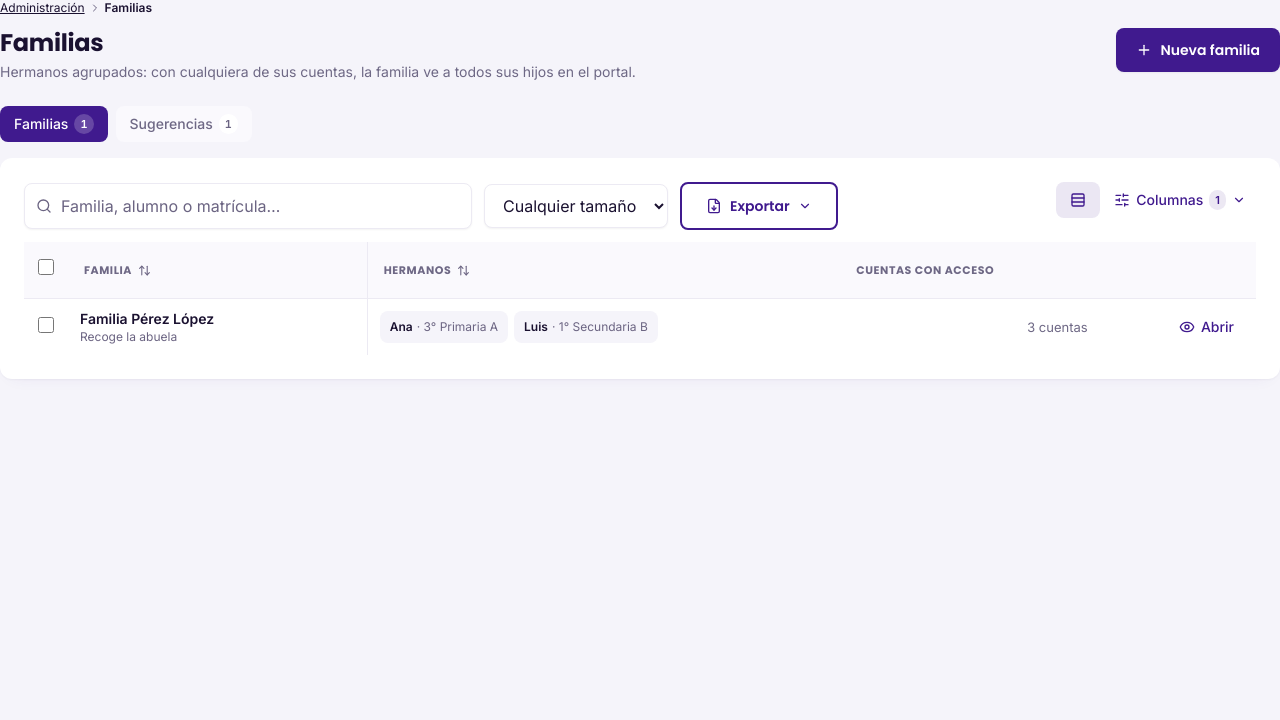
Scenario: AdminFamilies › lists families with their children and opens one
Expected: the heading "Familias" is shown, [0,26,103,59]
Expected: the text "Recoge la abuela" is shown, [80,329,177,344]
Click the button "Familia Pérez López" at [147, 319], box [80,309,214,329]
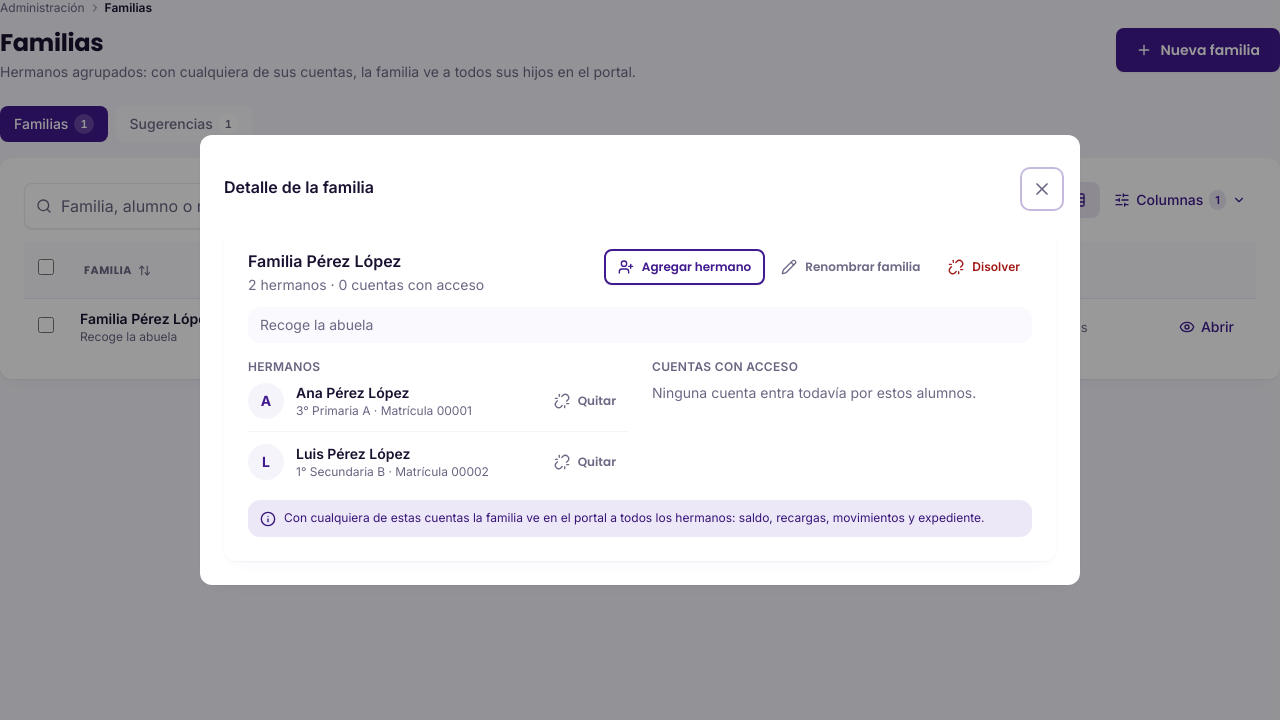
Expected: the text "2 hermanos · 0 cuentas con acceso" is shown, [248,275,484,295]
